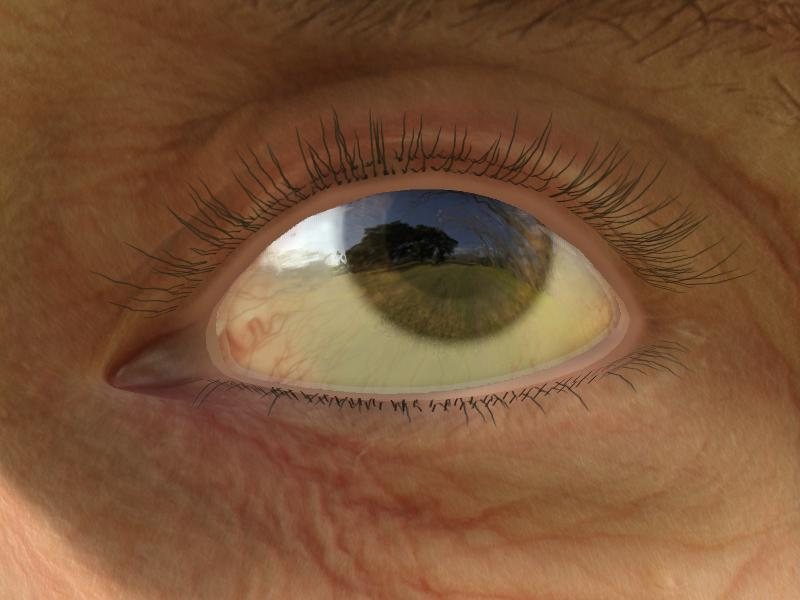eye: (346, 192, 551, 344)
